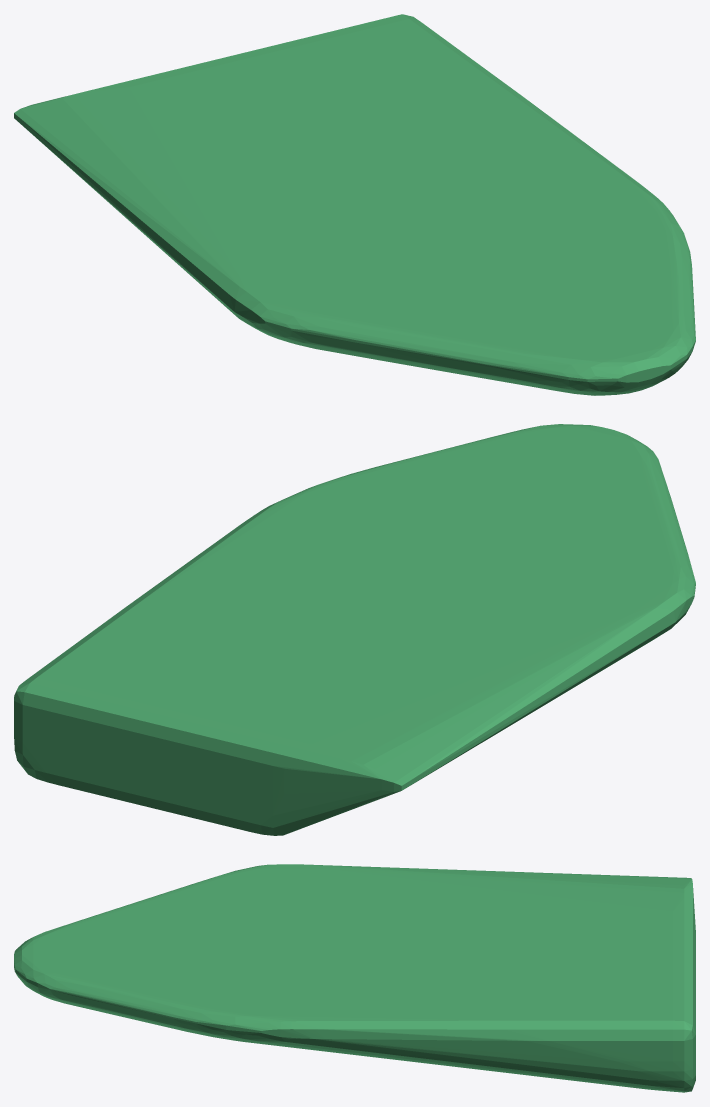
File: right_knee_link_part_3.obj
The picture shows the model from 3 angles, top to bottom: view 1: azimuth 30°, elevation 25°; view 2: azimuth 150°, elevation 25°; view 3: azimuth 270°, elevation 25°; orthographic projection. The views are drawn at different scales.
Bounding box in the file's own units: 0.0679 × 0.0147 × 0.1167.
